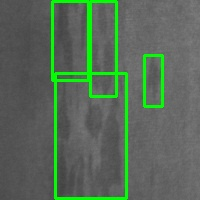inclusion: (55, 73, 126, 198), (52, 1, 88, 80), (90, 1, 116, 96), (144, 55, 162, 106)
